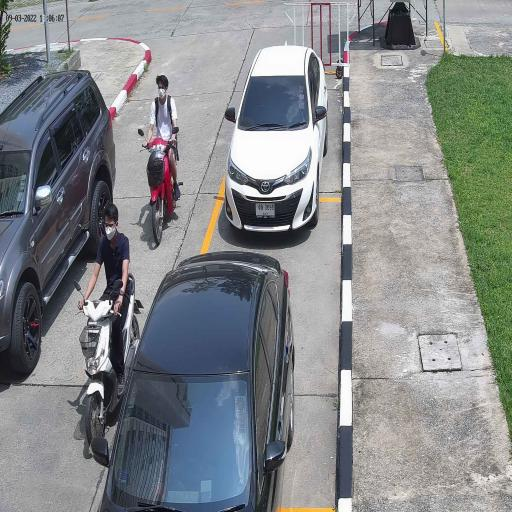car: (98, 248, 296, 512), (0, 68, 116, 375), (224, 43, 330, 236)
motorcycle: (81, 297, 142, 452), (146, 137, 175, 248)
